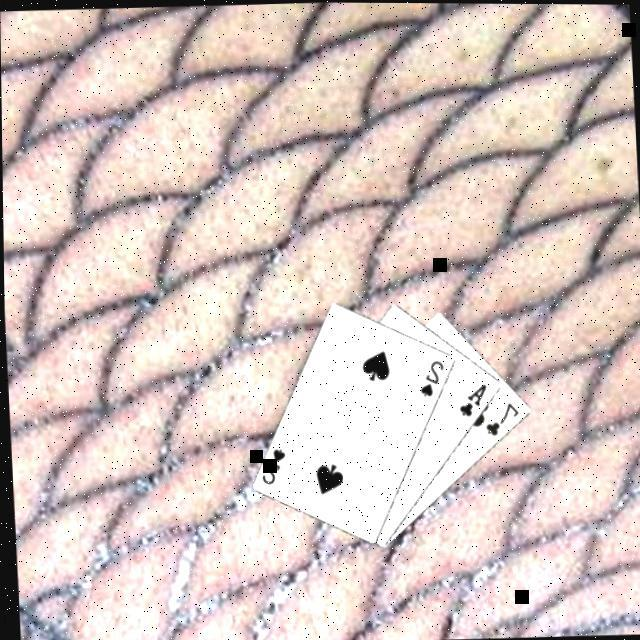2S: (414, 357, 446, 400), (255, 445, 287, 488)
7C: (480, 400, 521, 440)
AC: (453, 381, 488, 420)
